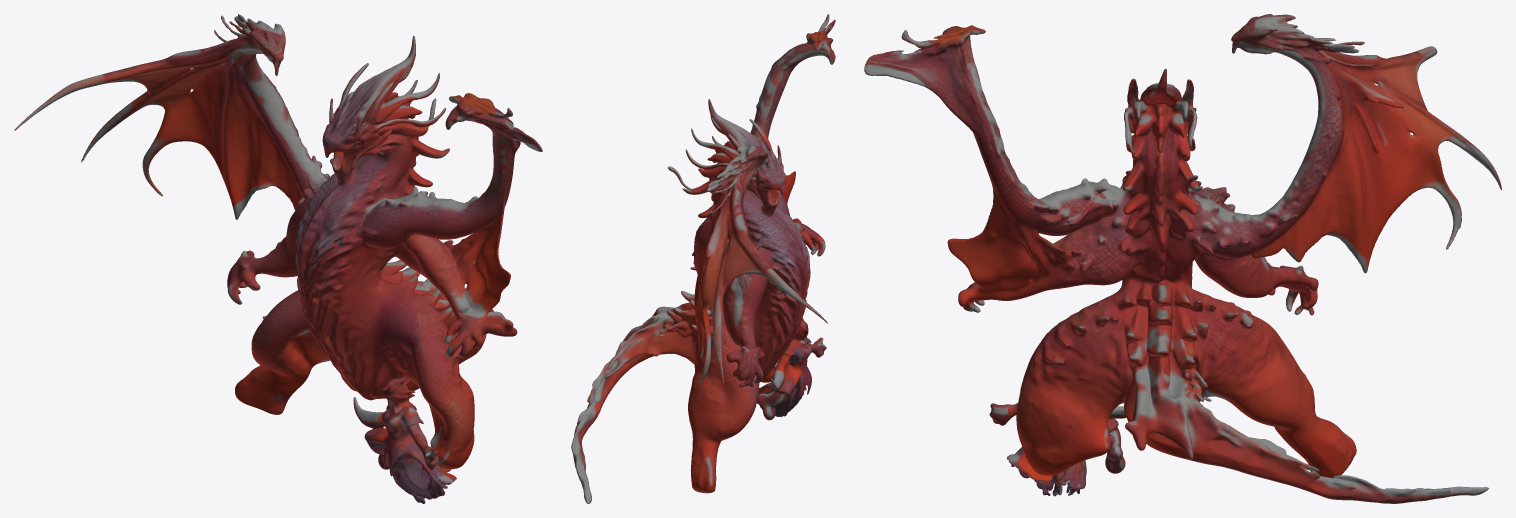
The model's file is emberwing-dragon.glb.
The picture shows the model from 3 angles, left to right: view 1: azimuth 30°, elevation 25°; view 2: azimuth 150°, elevation 25°; view 3: azimuth 270°, elevation 25°; orthographic projection. The views are drawn at different scales.
Parts seen in each view (by area): view 1: tripo_node_019421aa-7d35-4bf6-bc09-71e97ea37512; view 2: tripo_node_019421aa-7d35-4bf6-bc09-71e97ea37512; view 3: tripo_node_019421aa-7d35-4bf6-bc09-71e97ea37512.
Part boxes in pixels (<box>): tripo_node_019421aa-7d35-4bf6-bc09-71e97ea37512: <box>14,14,542,503</box>; tripo_node_019421aa-7d35-4bf6-bc09-71e97ea37512: <box>571,14,835,503</box>; tripo_node_019421aa-7d35-4bf6-bc09-71e97ea37512: <box>864,14,1501,503</box>.
Size of the model in its own units: 0.7157 by 0.8209 by 1.
1 material, 1 textured.
